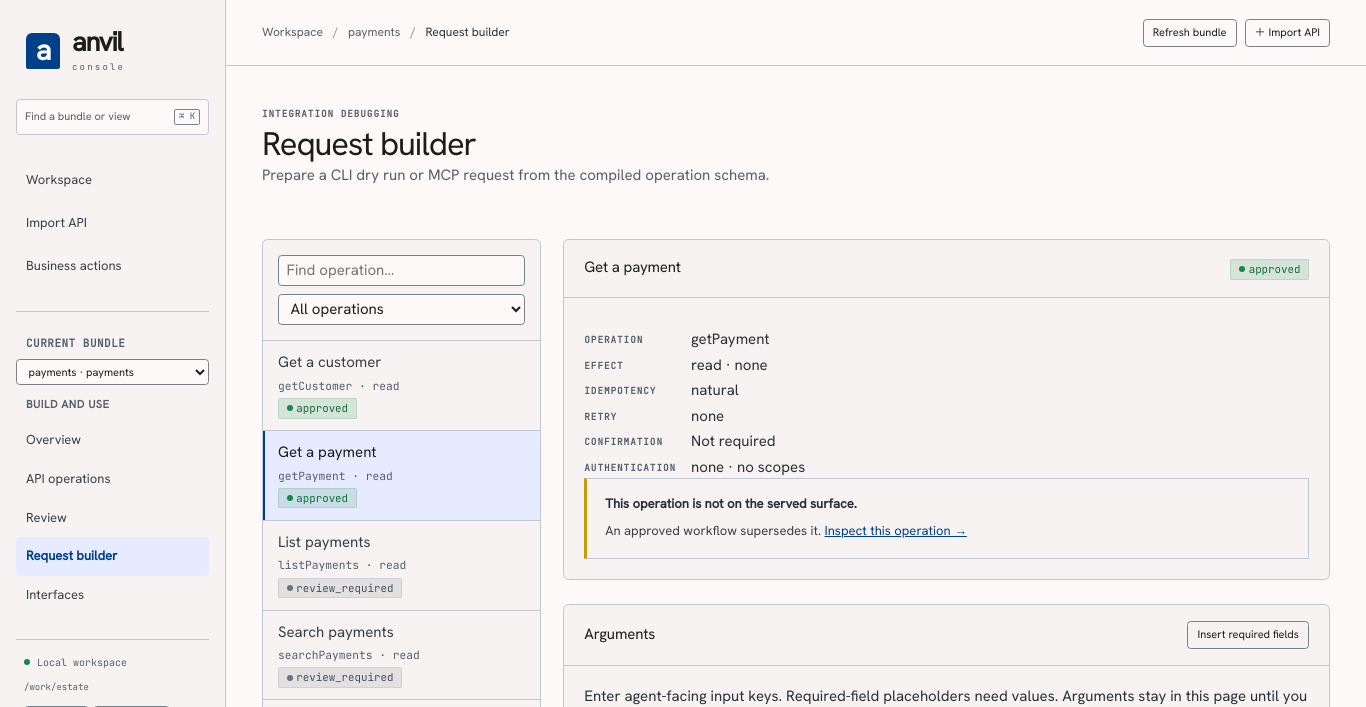
request builder › opens a superseded approved operation in the catalog without offering another approval
What coordinates should you click on to do the following:
click the link "Inspect this operation →"
I would click on:
 (889, 531)
Its box is [824, 522, 967, 539].
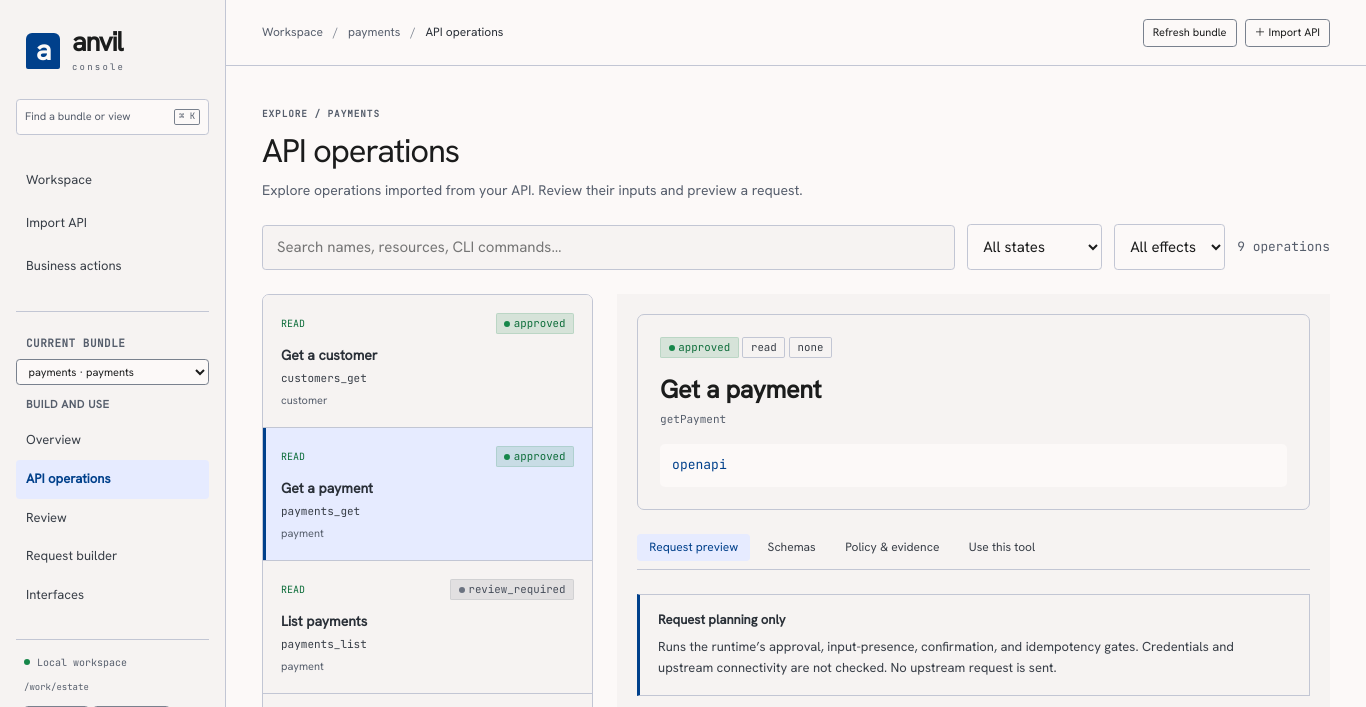
Check: the heading "Get a payment" is shown, box [660, 373, 821, 406]
Check: the heading "API operations" is shown, box [262, 129, 459, 172]
